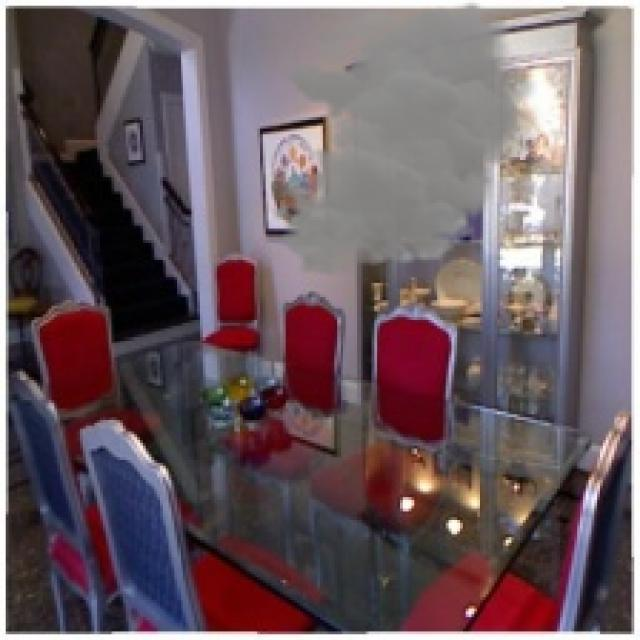Smoke: (272, 0, 548, 277)
